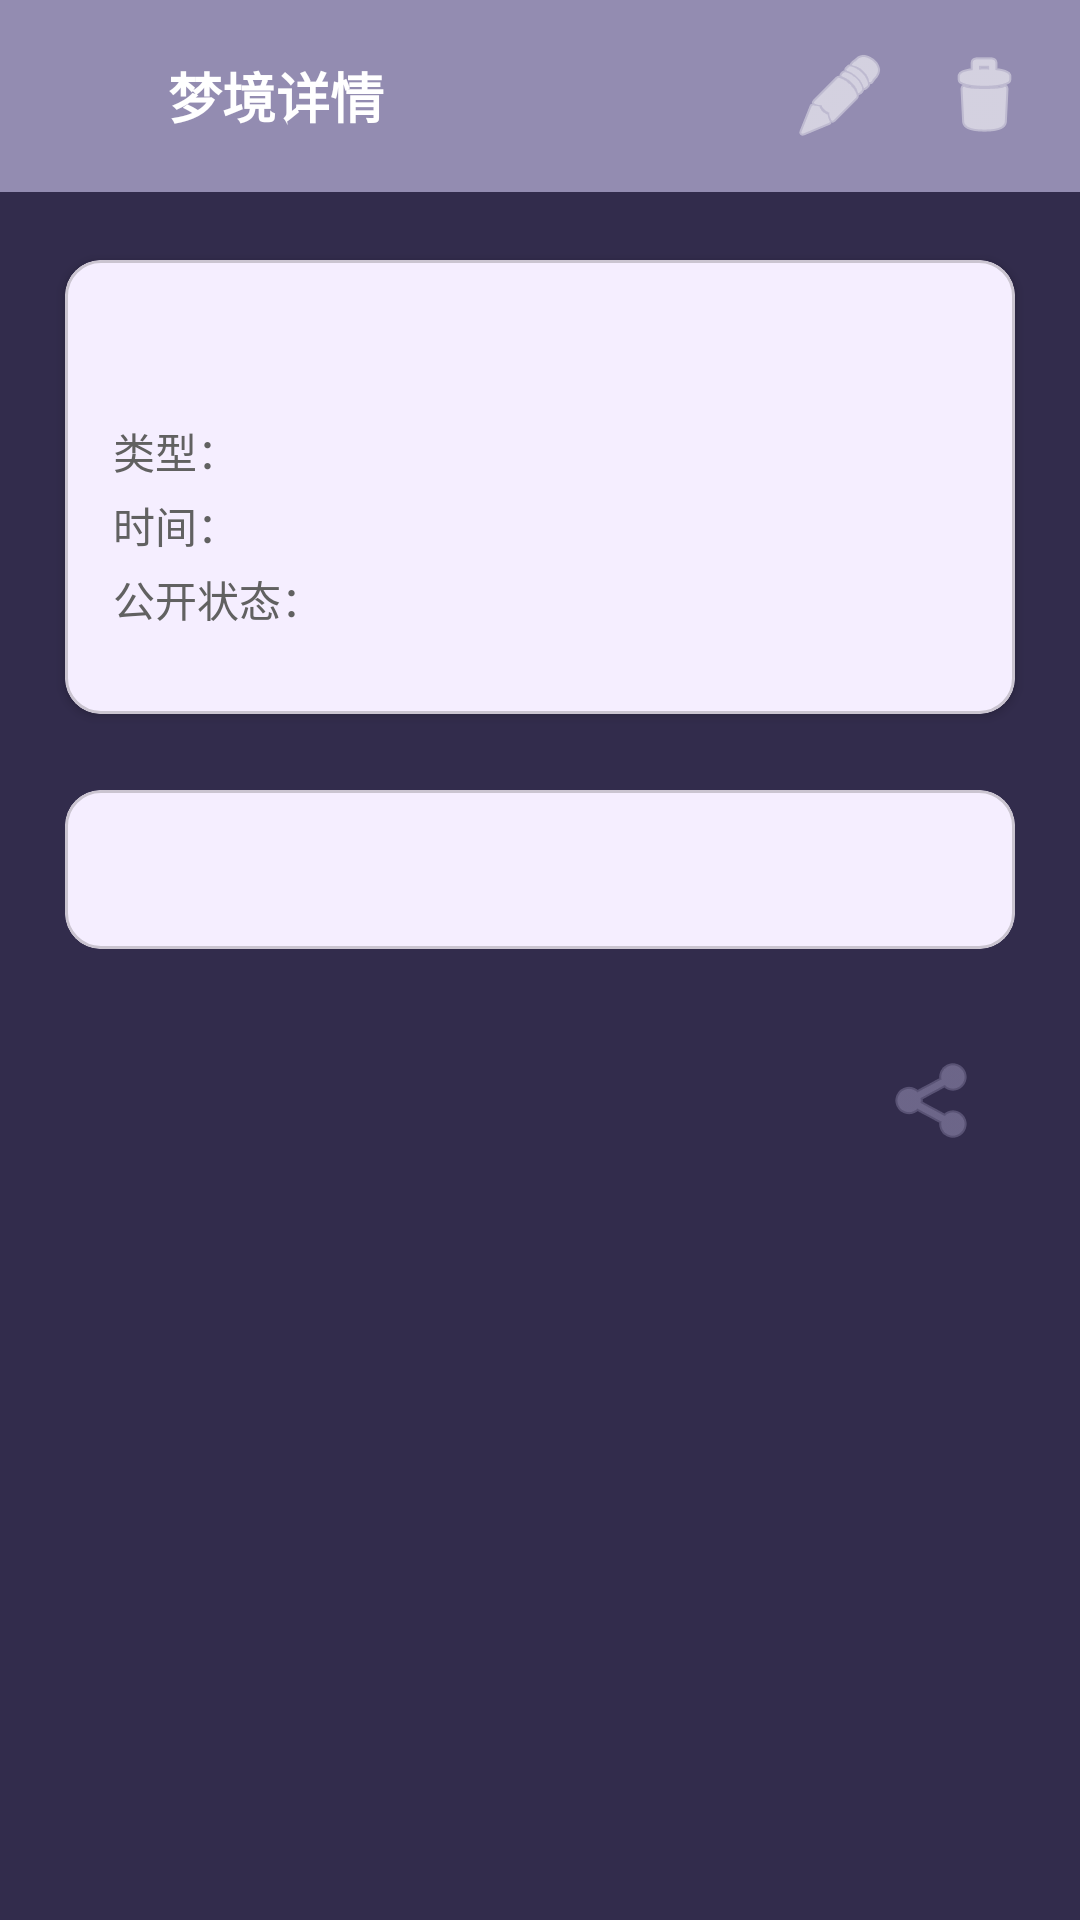

Locate icon controls on the screen. Image size 1080 x 1920, boxes as (x1, y1, x2, y2).
分享: (895, 1063, 967, 1138)
删除: (958, 57, 1011, 132)
编辑: (799, 55, 880, 136)
